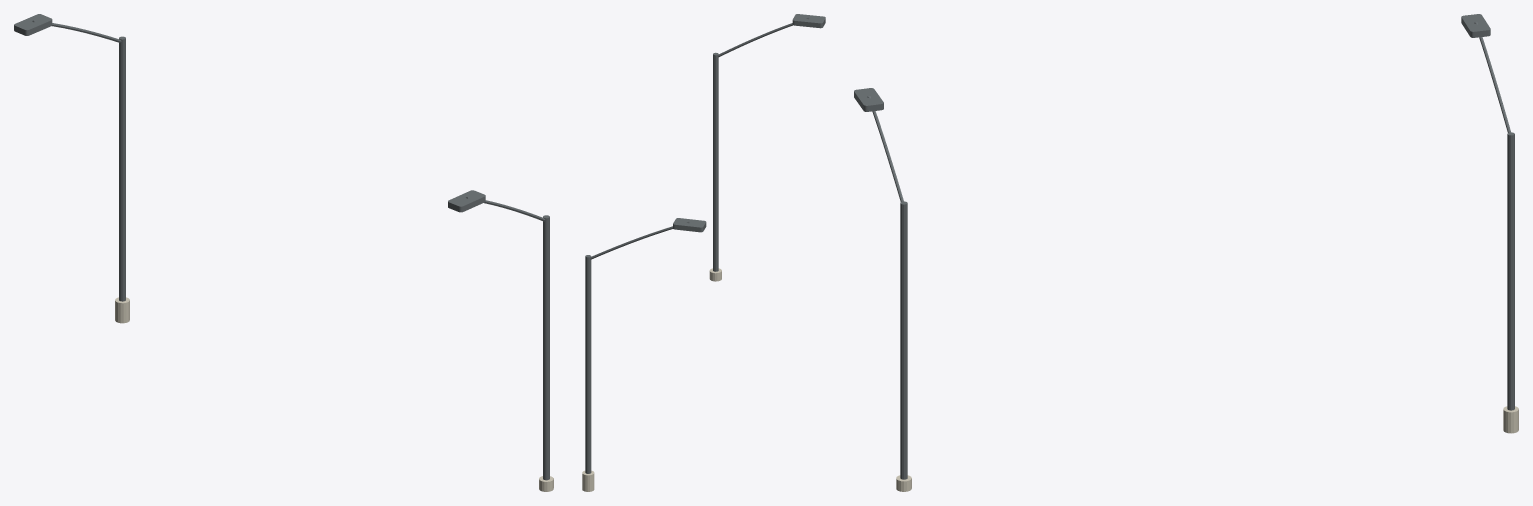
3 renders of one model, left to right at view 1: azimuth 30°, elevation 25°; view 2: azimuth 150°, elevation 25°; view 3: azimuth 270°, elevation 25°, orthographic. The views are drawn at different scales.
Parts seen in each view (by area): view 1: buildings_s_1_-3_Dark_Metal; view 2: buildings_s_1_-3_Dark_Metal, buildings_s_1_-3_Warm_Limestone; view 3: buildings_s_1_-3_Dark_Metal.
Part boxes in pixels (bbox=[...]): buildings_s_1_-3_Dark_Metal: bbox=[14, 14, 549, 480]; buildings_s_1_-3_Dark_Metal: bbox=[585, 14, 825, 473]; buildings_s_1_-3_Warm_Limestone: bbox=[582, 268, 721, 491]; buildings_s_1_-3_Dark_Metal: bbox=[854, 14, 1514, 479].
Size of the model in its own units: 13.74 by 16.75 by 28.48.
